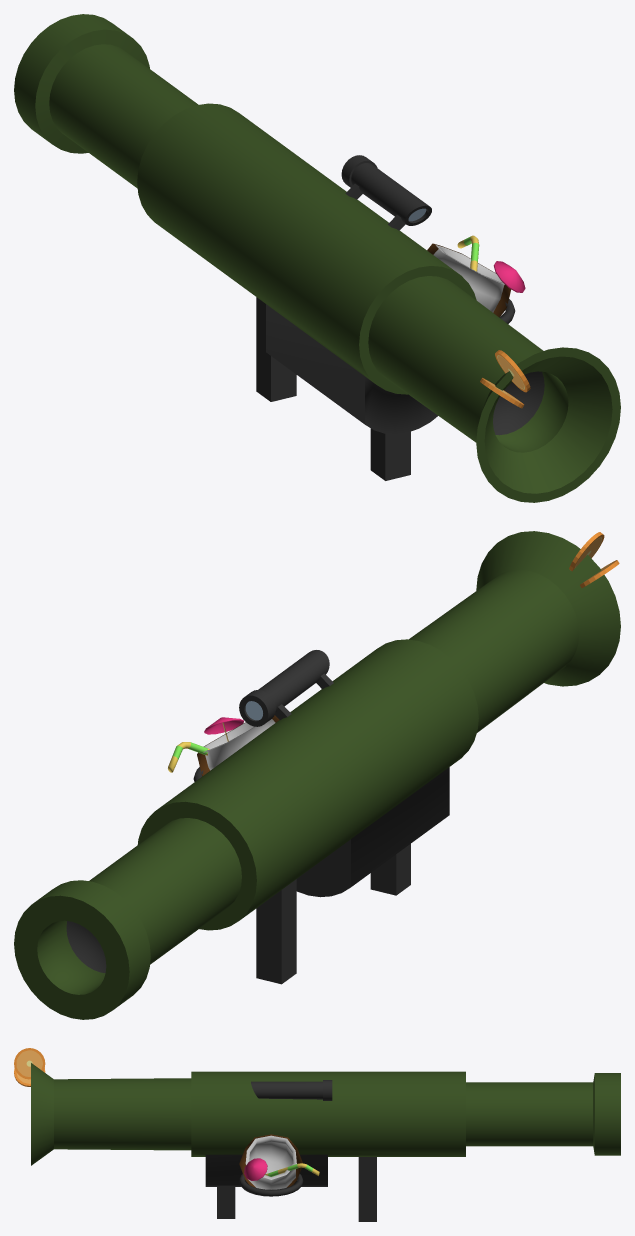
Rendered from pineappleLauncher.fbx.
3 renders of one model, top to bottom at view 1: azimuth 30°, elevation 25°; view 2: azimuth 150°, elevation 25°; view 3: azimuth 270°, elevation 25°, orthographic. The views are drawn at different scales.
Parts seen in each view (by area): view 1: Pineapple Launcher, Coconut Drink Holder, Scope, Handle 1, Handle 2, Orange Slices; view 2: Pineapple Launcher, Handle 1, Scope, Coconut Drink Holder, Handle 2, Orange Slices; view 3: Pineapple Launcher, Coconut Drink Holder, Scope, Handle 1, Orange Slices, Handle 2.
Boxes of the visible parts, left/top/right/bottom form: Pineapple Launcher: left=14, top=14, right=620, bottom=502; Coconut Drink Holder: left=427, top=235, right=525, bottom=323; Scope: left=341, top=155, right=431, bottom=230; Handle 1: left=256, top=297, right=296, bottom=401; Handle 2: left=370, top=428, right=410, bottom=480; Orange Slices: left=480, top=350, right=530, bottom=408; Pineapple Launcher: left=14, top=531, right=620, bottom=1019; Handle 1: left=256, top=879, right=296, bottom=984; Scope: left=239, top=650, right=333, bottom=726; Coconut Drink Holder: left=168, top=715, right=279, bottom=781; Handle 2: left=370, top=844, right=410, bottom=895; Orange Slices: left=569, top=532, right=619, bottom=587; Pineapple Launcher: left=31, top=1063, right=620, bottom=1186; Coconut Drink Holder: left=239, top=1134, right=319, bottom=1196; Scope: left=251, top=1080, right=332, bottom=1100; Handle 1: left=358, top=1157, right=376, bottom=1221; Orange Slices: left=14, top=1048, right=45, bottom=1086; Handle 2: left=217, top=1187, right=235, bottom=1218.
Bounding box in the file's own units: 35.72 × 132 × 37.43.
